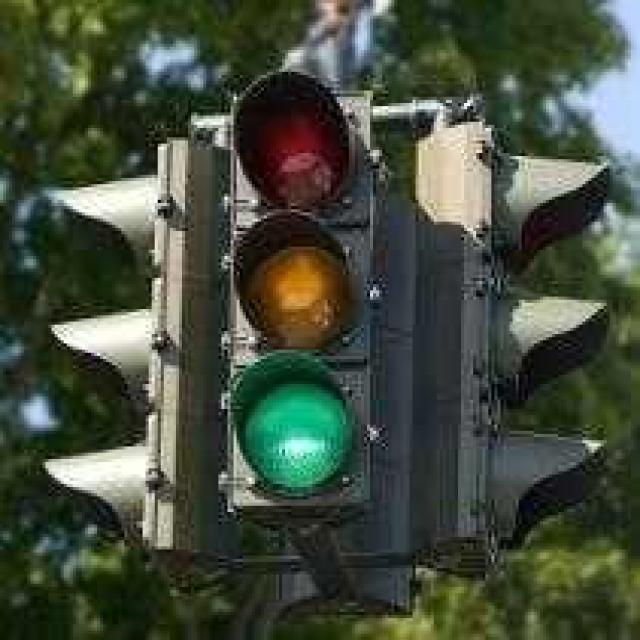Traffic Light -Green-: (212, 69, 386, 518)
